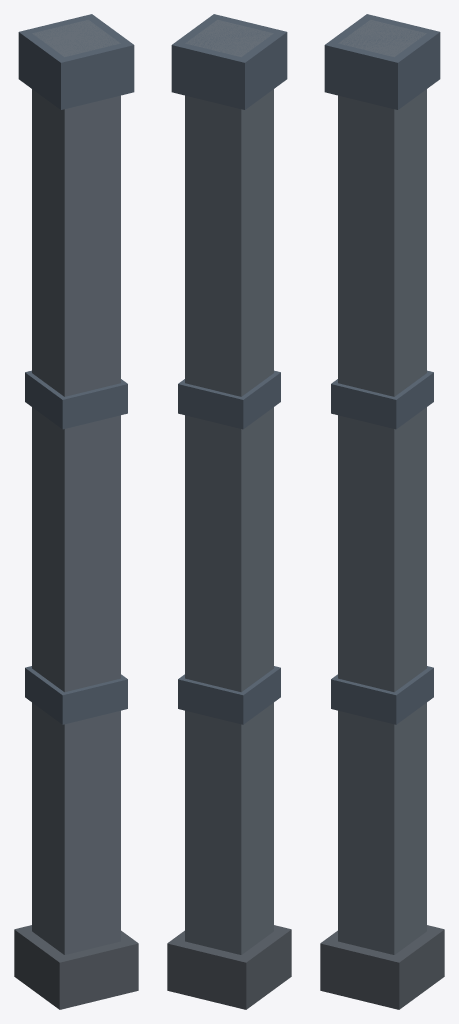
The model's file is Lab_Pillar_B.fbx.
The picture shows the model from 3 angles, left to right: view 1: azimuth 30°, elevation 25°; view 2: azimuth 150°, elevation 25°; view 3: azimuth 330°, elevation 25°; orthographic projection.
Parts seen in each view (by area): view 1: Lab_Pillar_Slender; view 2: Lab_Pillar_Slender; view 3: Lab_Pillar_Slender.
Part boxes in pixels (bbox=[...]): Lab_Pillar_Slender: bbox=[14, 14, 138, 1009]; Lab_Pillar_Slender: bbox=[167, 14, 291, 1009]; Lab_Pillar_Slender: bbox=[320, 14, 444, 1009].
Bounding box in the file's own units: 0.7 × 8 × 0.7.
